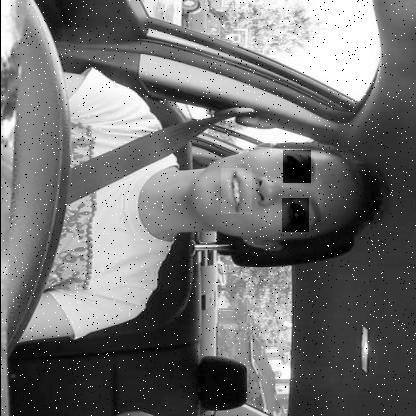seatbelt: (17, 120, 379, 268)
